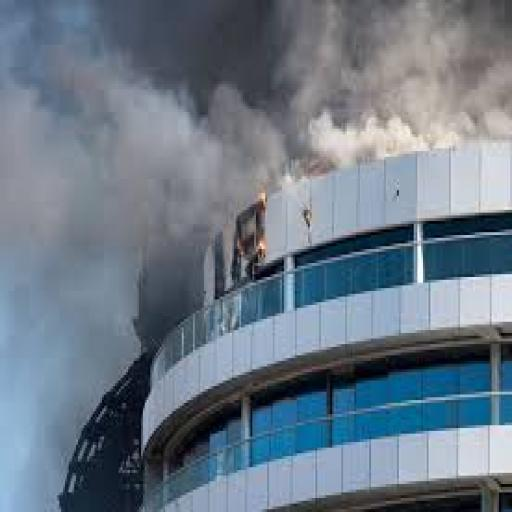smoke: (54, 3, 503, 187)
